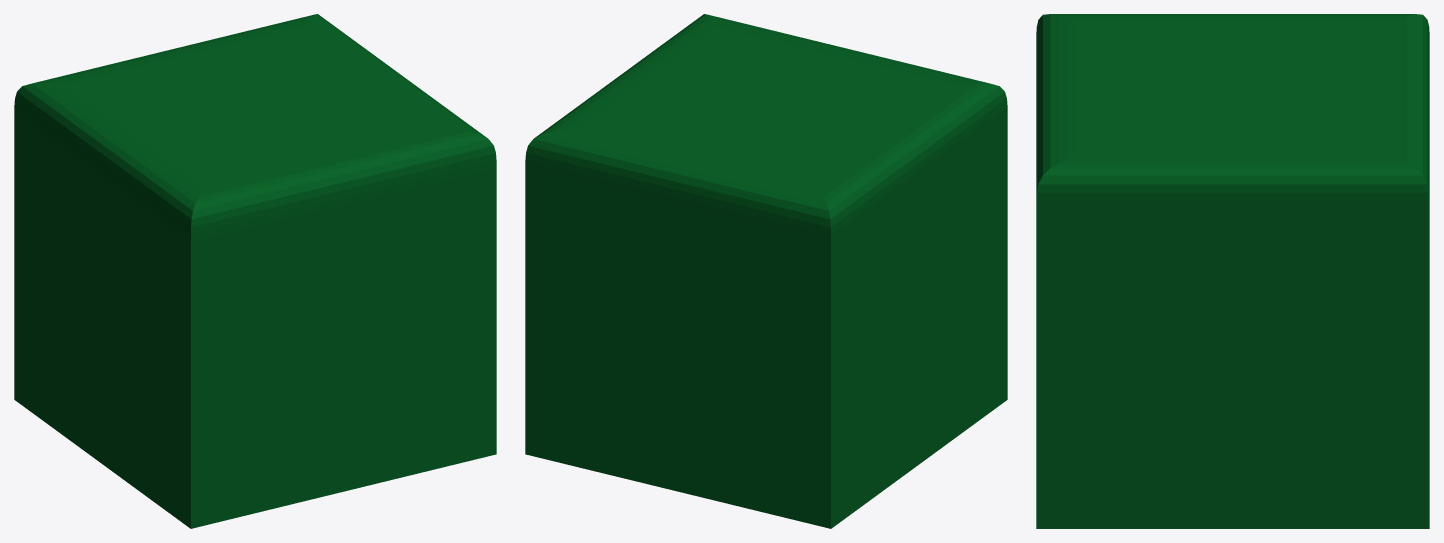
3 views of the same model, side by side, from view 1: azimuth 30°, elevation 25°; view 2: azimuth 150°, elevation 25°; view 3: azimuth 270°, elevation 25° (orthographic). The views are drawn at different scales.
Visible parts, largest first — view 1: Cube.001; view 2: Cube.001; view 3: Cube.001.
Boxes of the visible parts, box(x1,y1,x2,y2) form: Cube.001: box(14, 14, 496, 528); Cube.001: box(525, 14, 1007, 528); Cube.001: box(1036, 14, 1429, 528).
Bounding box in the file's own units: 2 × 2 × 2.
